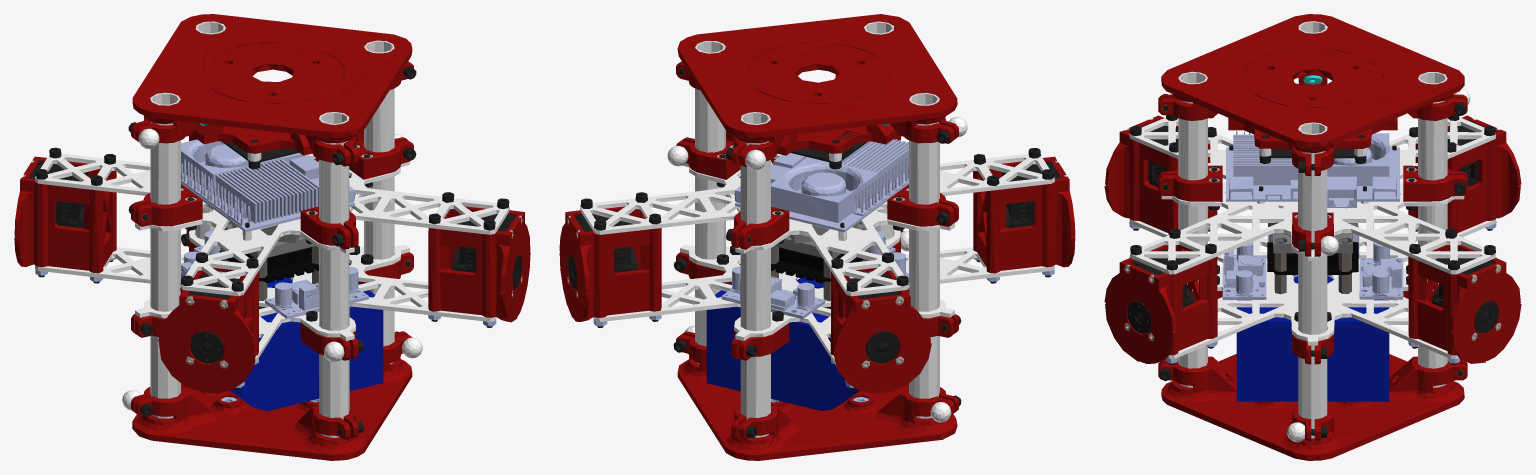
The model's file is center_module_dragon_ball.dae.
3 views of the same model, side by side, from view 1: azimuth 30°, elevation 25°; view 2: azimuth 150°, elevation 25°; view 3: azimuth 270°, elevation 25° (orthographic). The views are drawn at different scales.
Visible parts, largest first — view 1: Shape_IndexedFaceSet.006; view 2: Shape_IndexedFaceSet.006; view 3: Shape_IndexedFaceSet.006.
Boxes of the visible parts, box(x1,y1,x2,y2) form: Shape_IndexedFaceSet.006: box(14, 14, 530, 460); Shape_IndexedFaceSet.006: box(559, 14, 1075, 460); Shape_IndexedFaceSet.006: box(1104, 14, 1521, 460).
Size of the model in its own units: 0.1969 by 0.1969 by 0.166.
